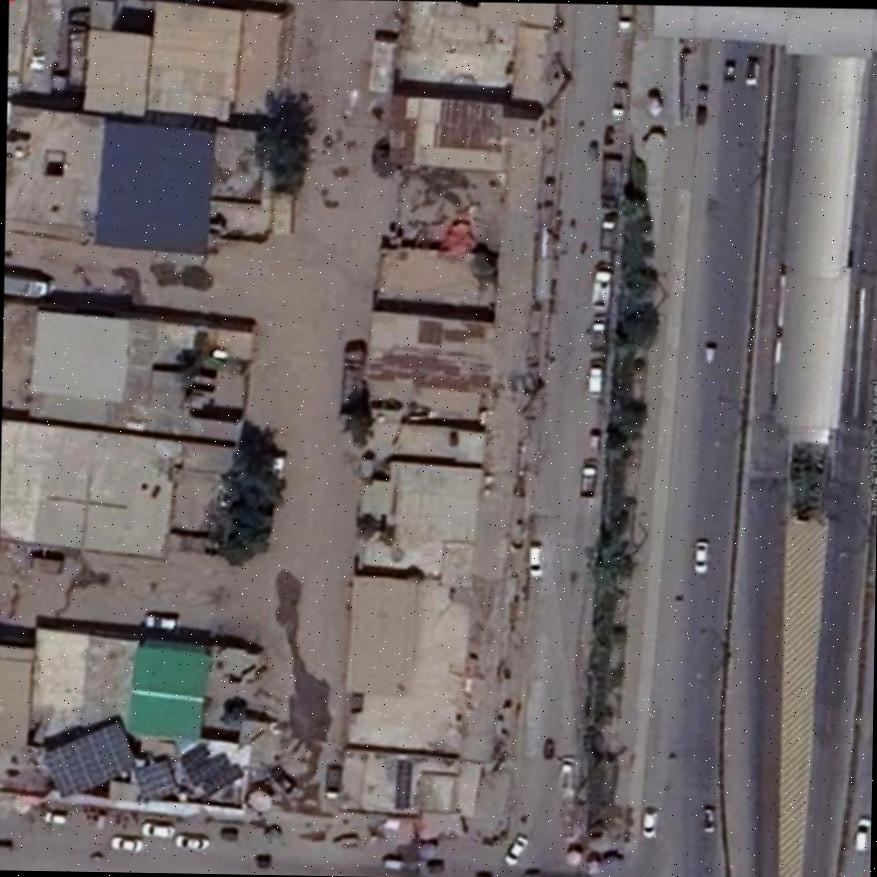Solarpanel: (43, 719, 135, 798), (132, 759, 175, 802), (188, 753, 228, 785), (201, 764, 240, 795), (179, 742, 208, 768), (393, 762, 410, 806)
